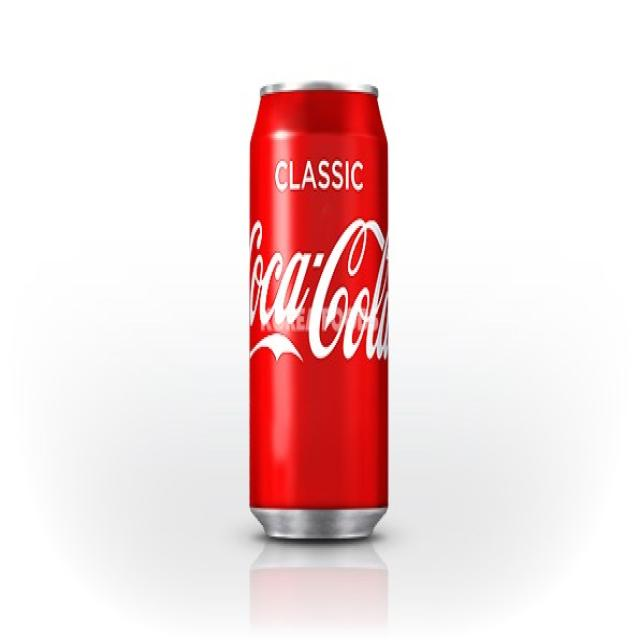cocacola: (246, 78, 390, 552)
